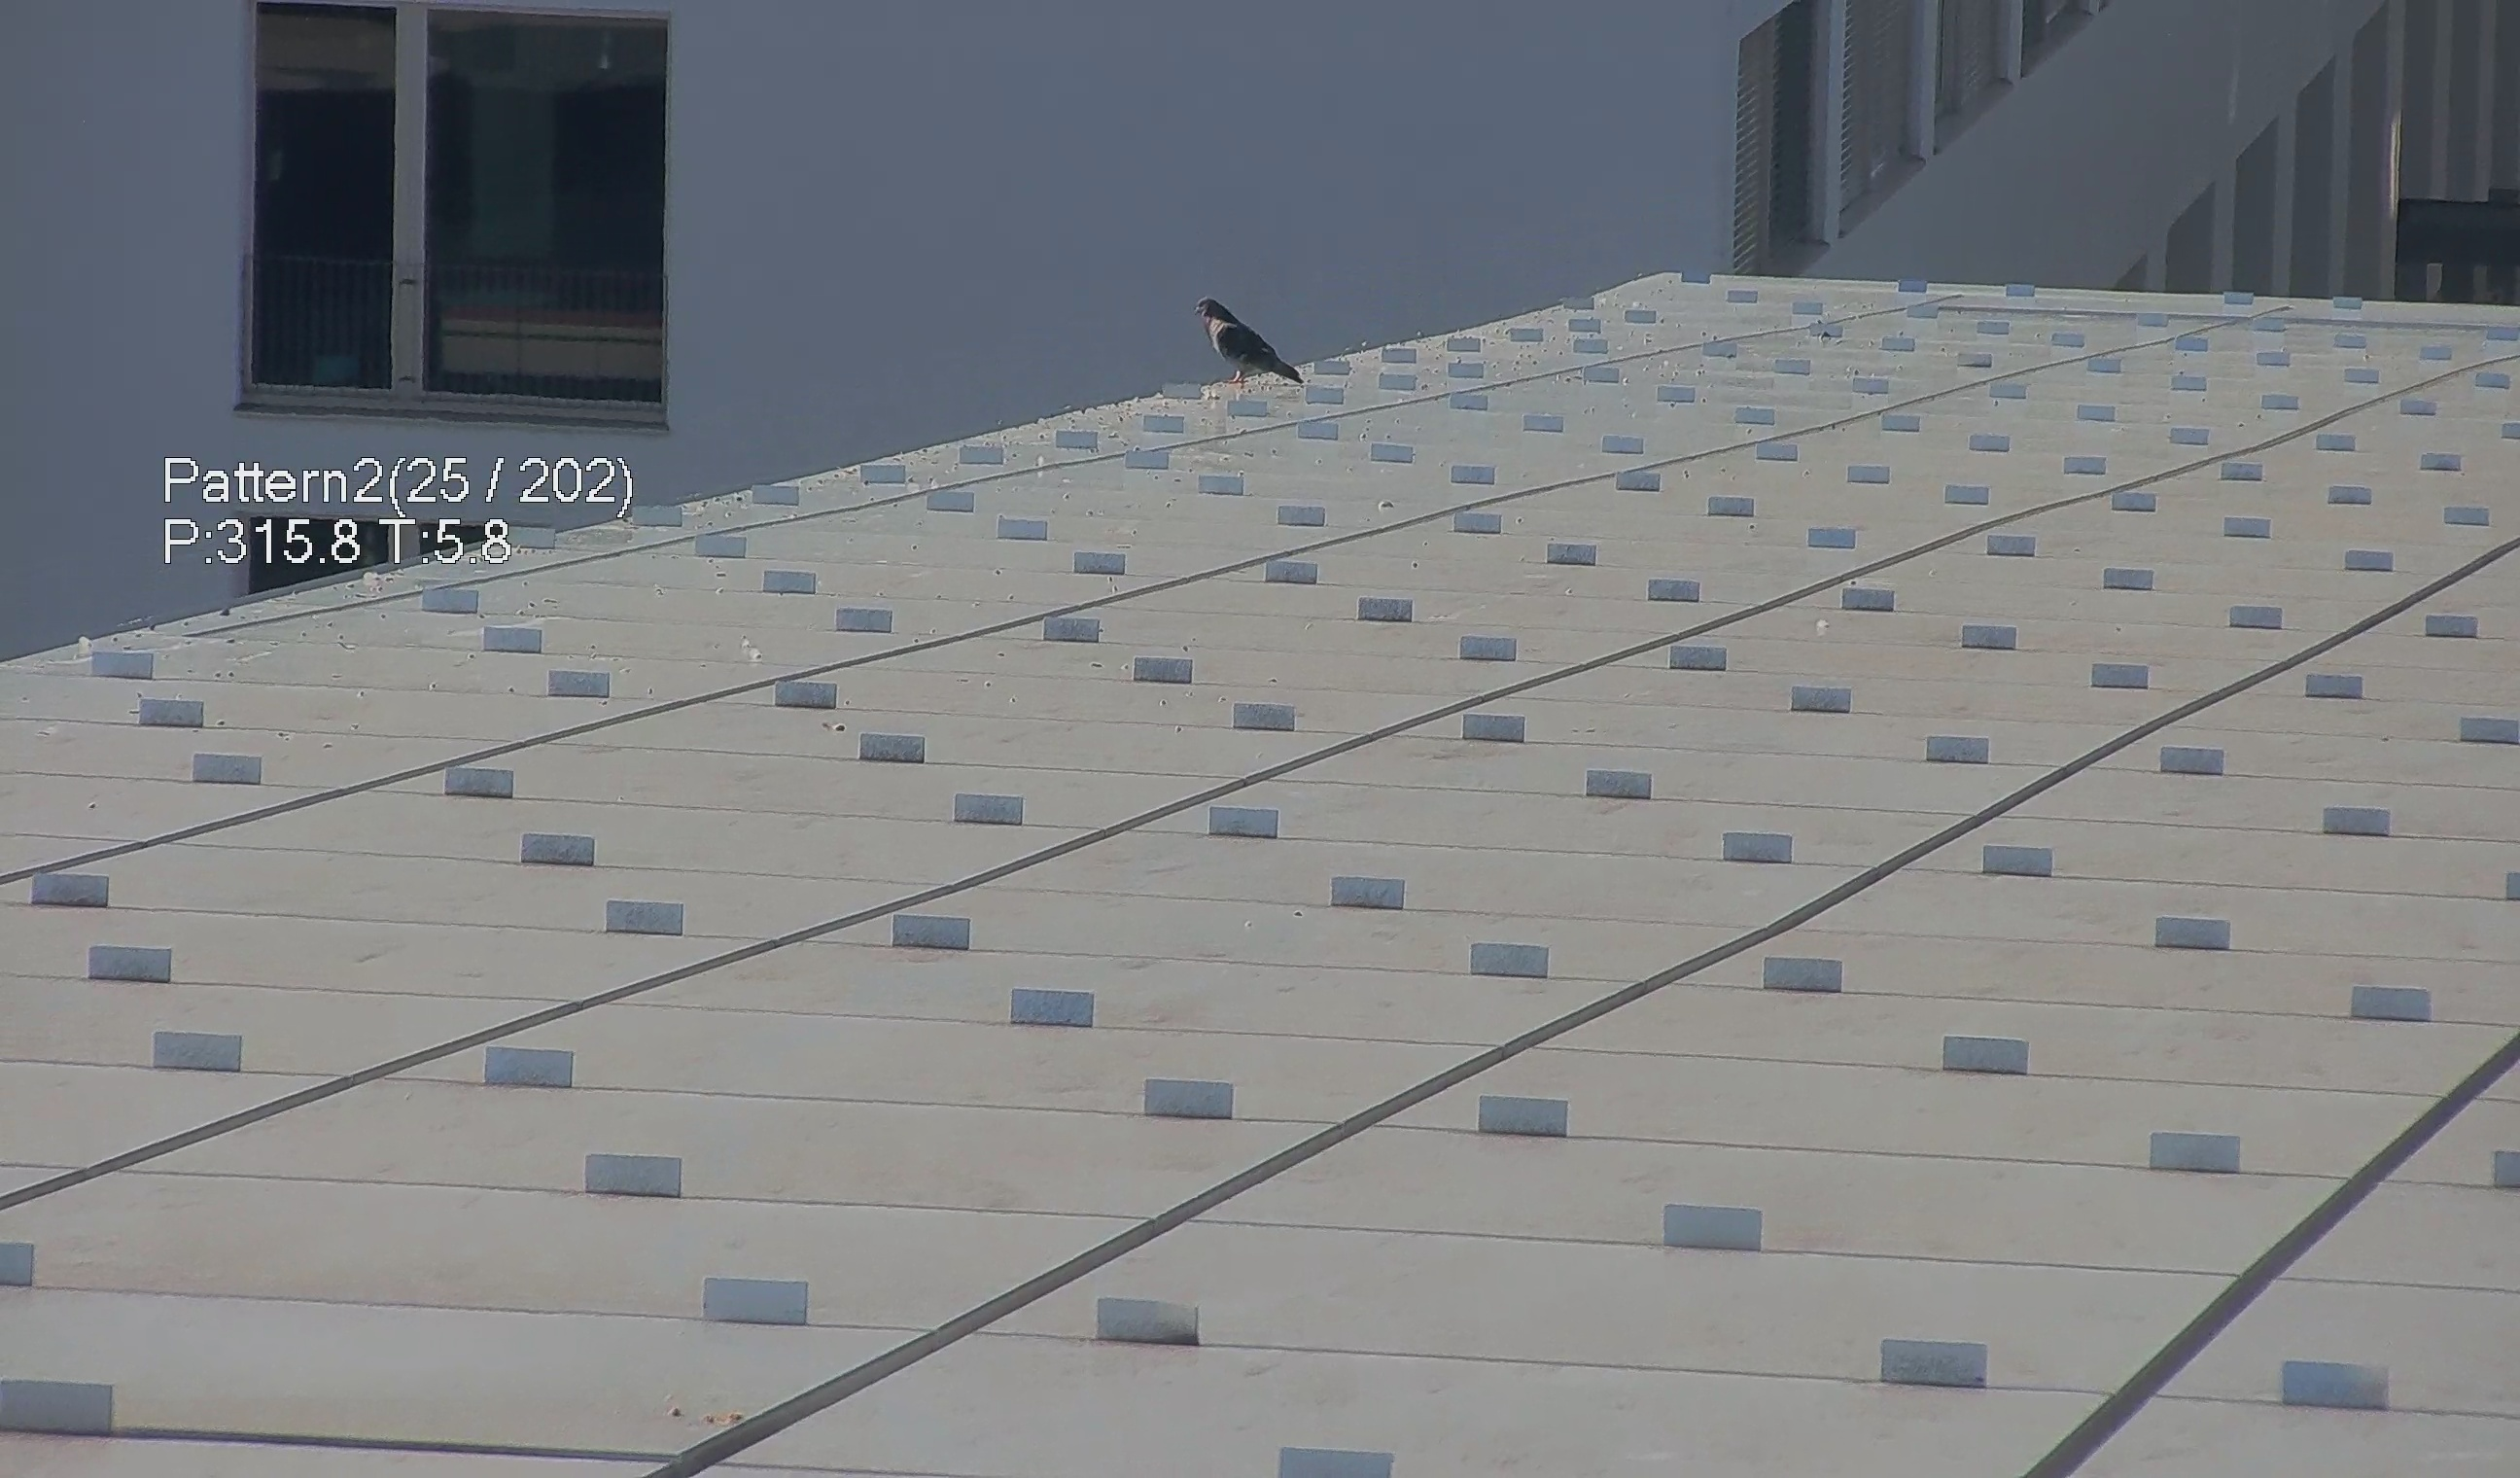Pigeon: (1194, 283, 1310, 394)
